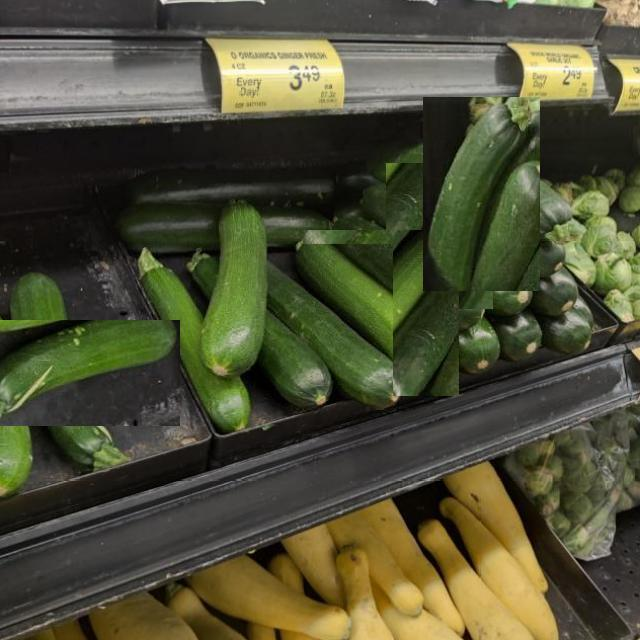Zucchini: (302, 230, 459, 396), (248, 245, 393, 409), (423, 96, 540, 291), (138, 248, 253, 433), (0, 321, 180, 426), (386, 164, 493, 309), (207, 191, 263, 369)
